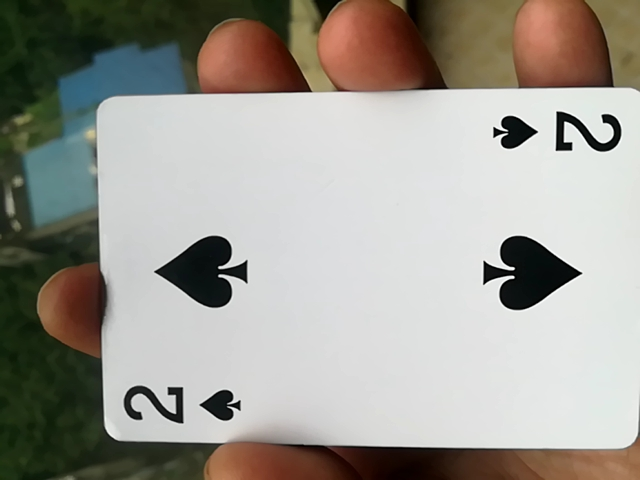ht 2: (78, 89, 638, 466)
